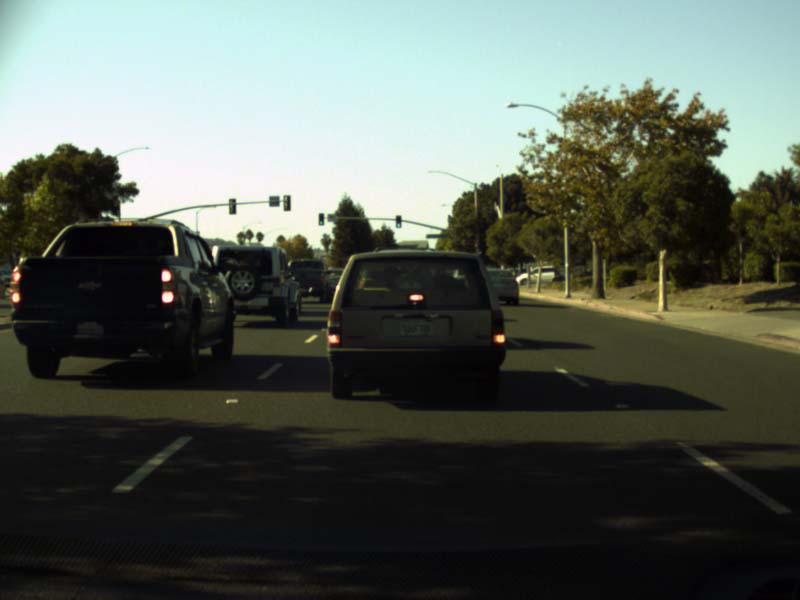Green: (395, 215, 401, 227), (318, 212, 323, 225)
